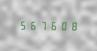eight: (68, 20, 77, 31)
five: (17, 19, 26, 30)
seven: (38, 19, 47, 30)
six: (48, 19, 57, 31), (27, 19, 36, 30)
zero: (58, 20, 67, 31)
